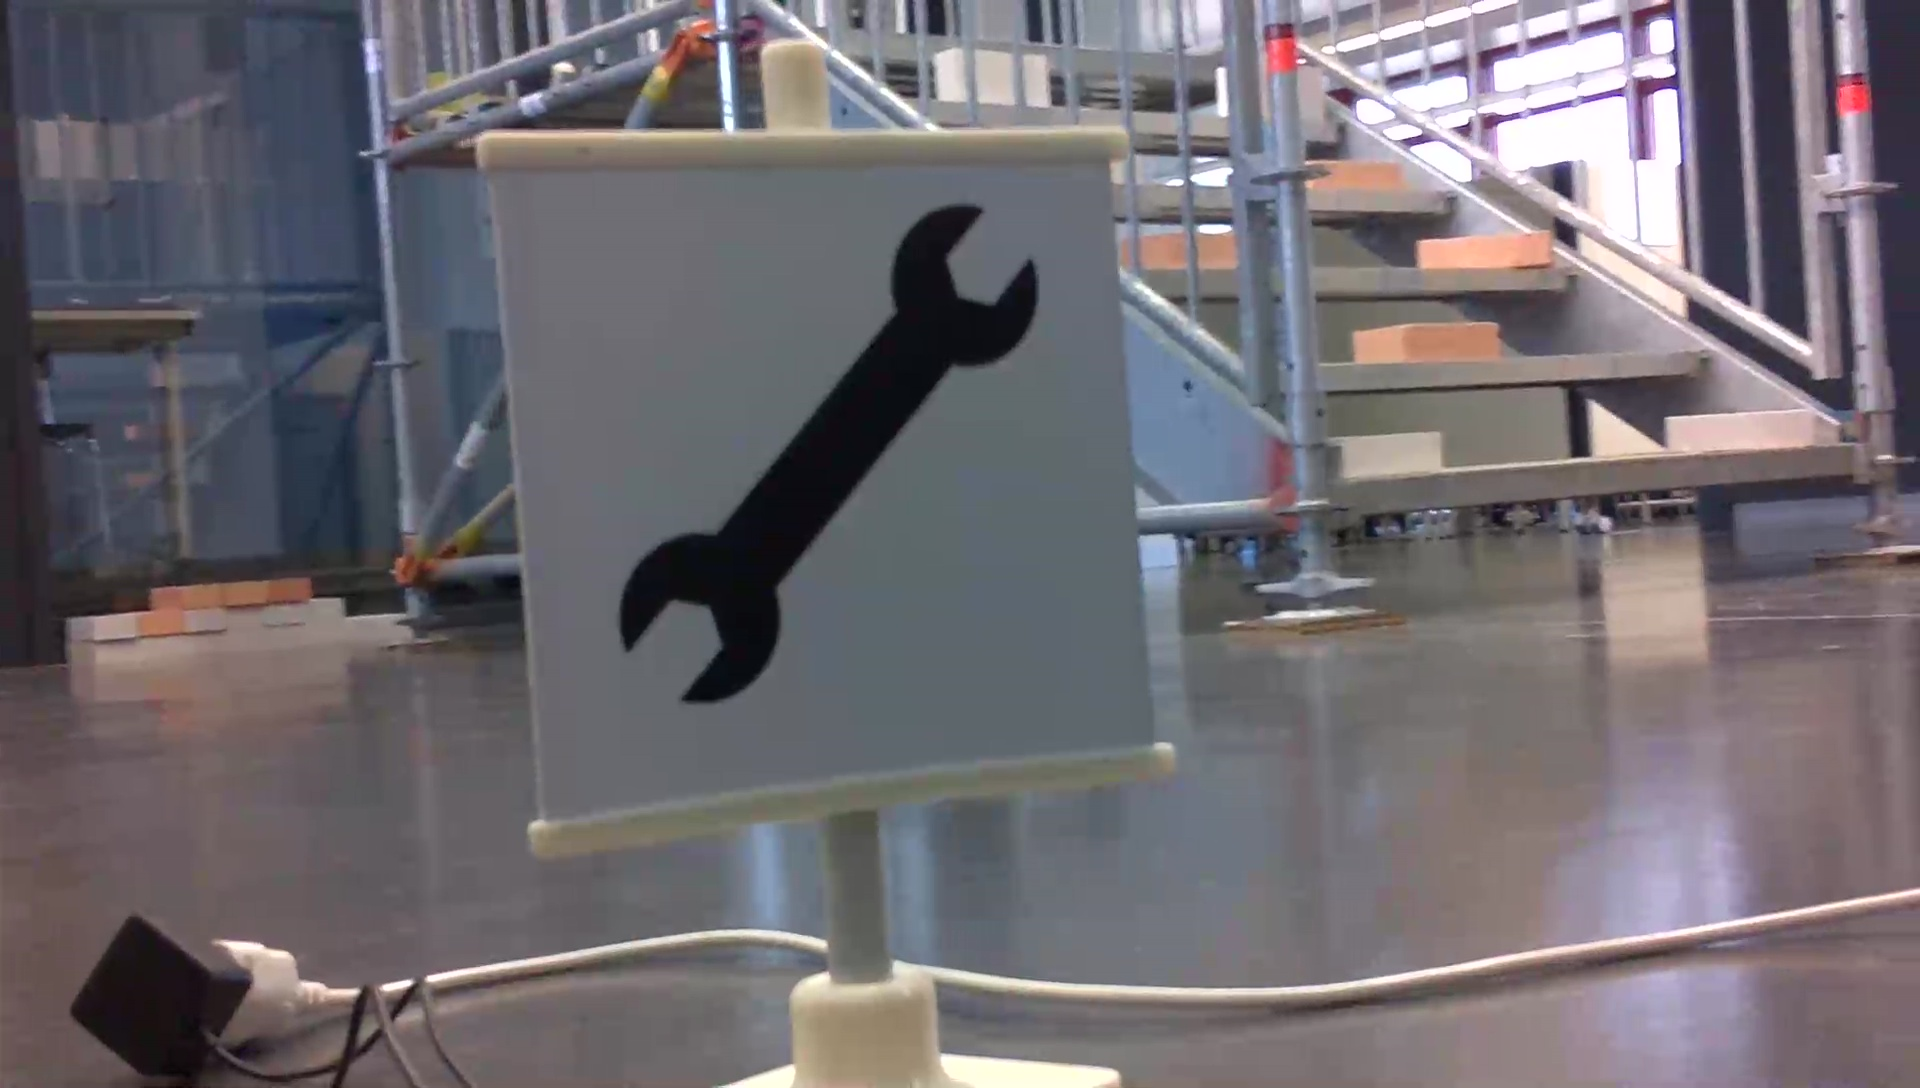brick: (1353, 320, 1495, 361), (1664, 415, 1812, 447), (1420, 233, 1549, 268), (1340, 435, 1443, 475), (1305, 156, 1400, 189), (1295, 66, 1323, 119)
edge: (1346, 446, 1876, 513), (1308, 346, 1706, 386), (1309, 262, 1580, 290)
wrench: (605, 195, 1050, 713)
